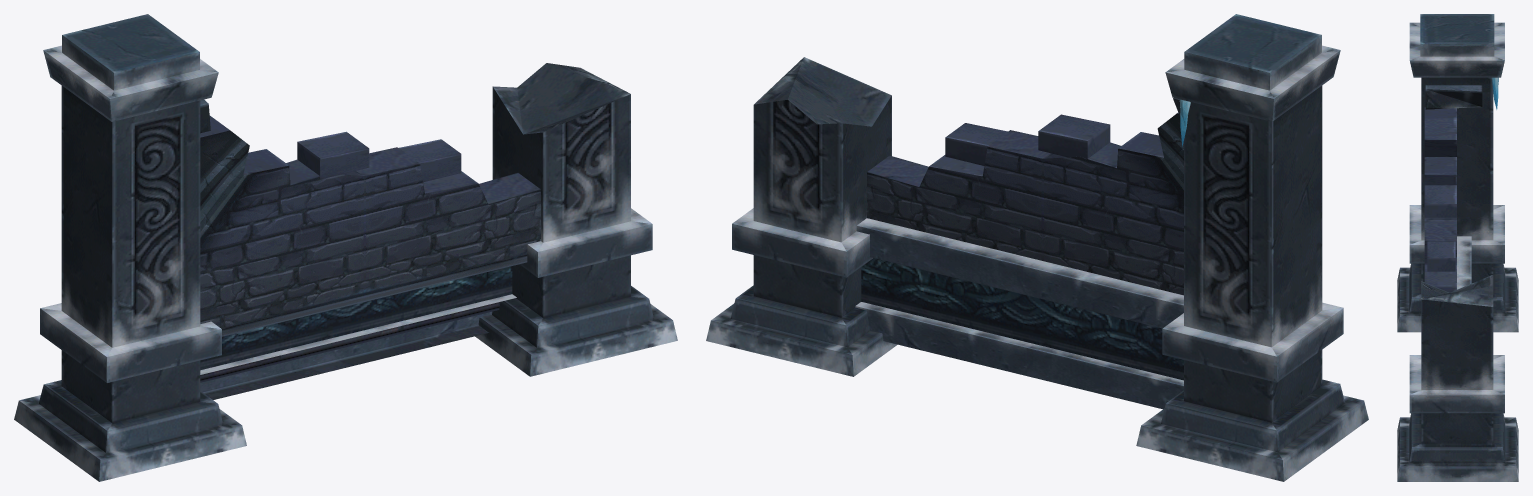
File: Ice_wall01.FBX
3 views of the same model, side by side, from view 1: azimuth 30°, elevation 25°; view 2: azimuth 150°, elevation 25°; view 3: azimuth 270°, elevation 25° (orthographic). The views are drawn at different scales.
Parts seen in each view (by area): view 1: Object15665; view 2: Object15665; view 3: Object15665.
Boxes of the visible parts, left/top/right/bottom form: Object15665: left=14, top=14, right=677, bottom=481; Object15665: left=706, top=14, right=1368, bottom=481; Object15665: left=1397, top=14, right=1518, bottom=481.
Bounding box in the file's own units: 369 × 238 × 94.2.
